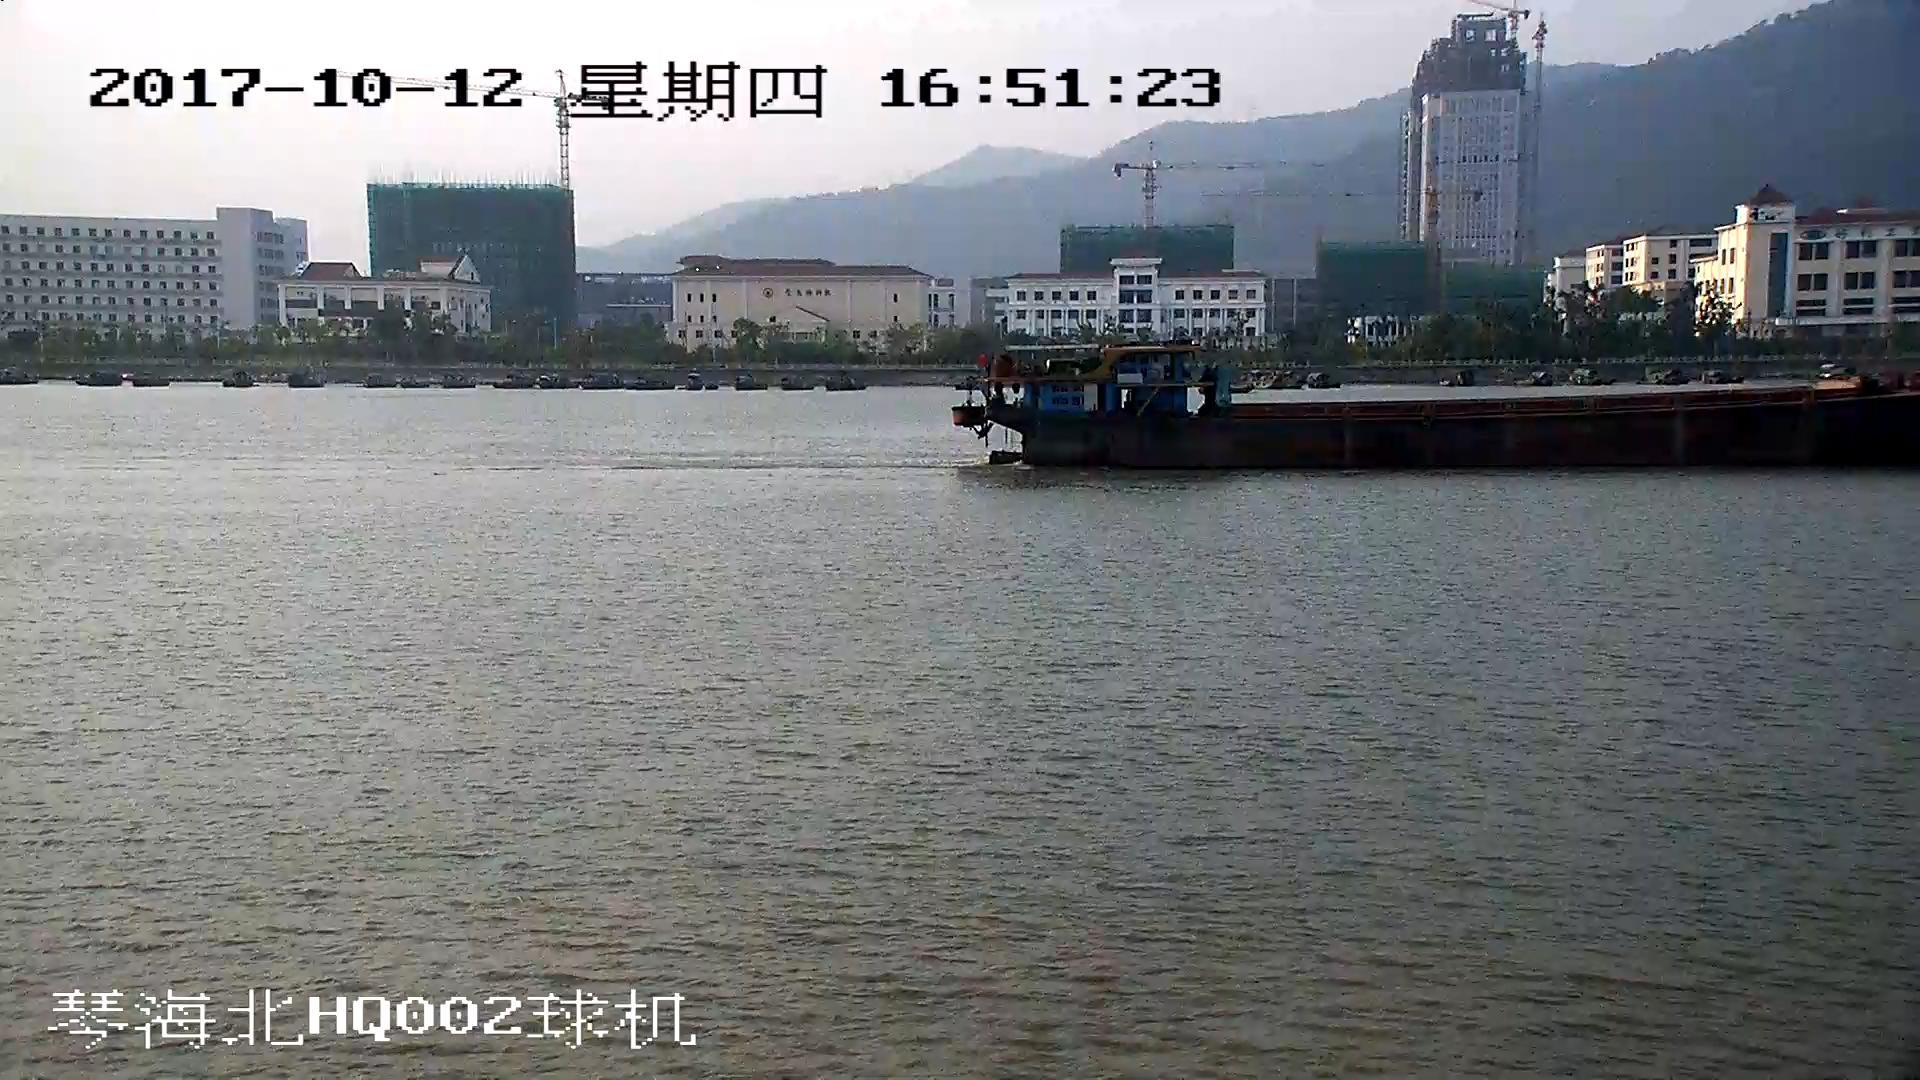bulk cargo carrier: (948, 347, 1920, 480)
